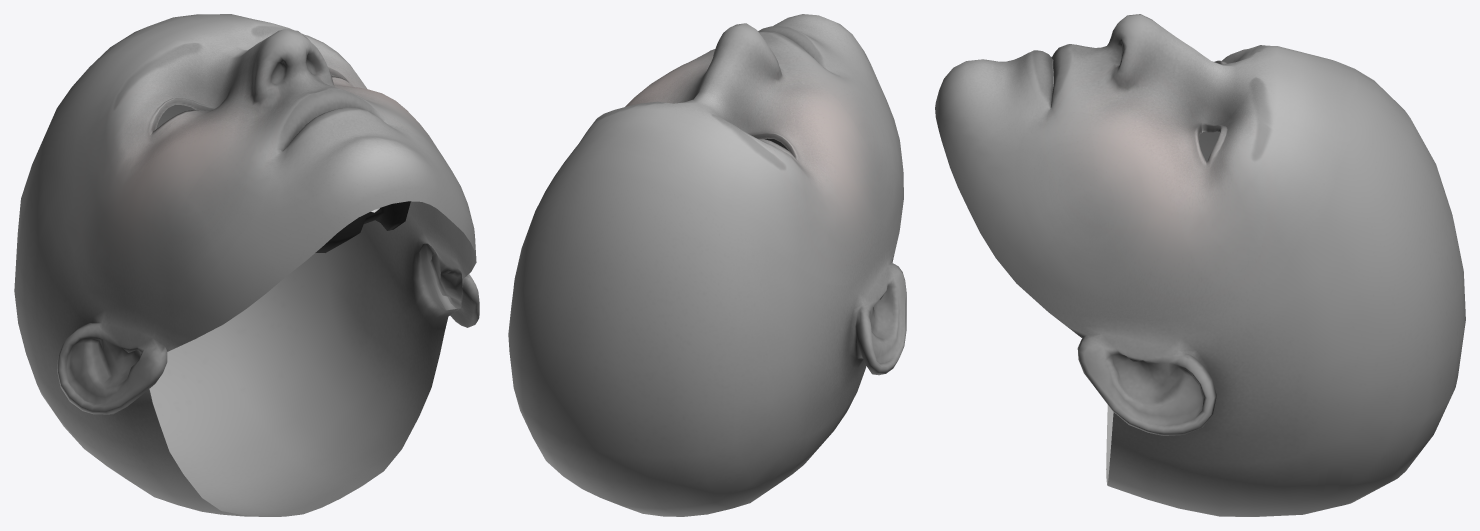
3 renders of one model, left to right at view 1: azimuth 30°, elevation 25°; view 2: azimuth 150°, elevation 25°; view 3: azimuth 270°, elevation 25°, orthographic. The views are drawn at different scales.
Visible parts, largest first — view 1: head; view 2: head; view 3: head.
Part boxes in pixels (bbox=[...]): head: bbox=[14, 14, 479, 516]; head: bbox=[508, 14, 906, 516]; head: bbox=[935, 14, 1465, 516].
Bounding box in the file's own units: 19.03 × 23.57 × 23.38.
1 material, 1 textured.
